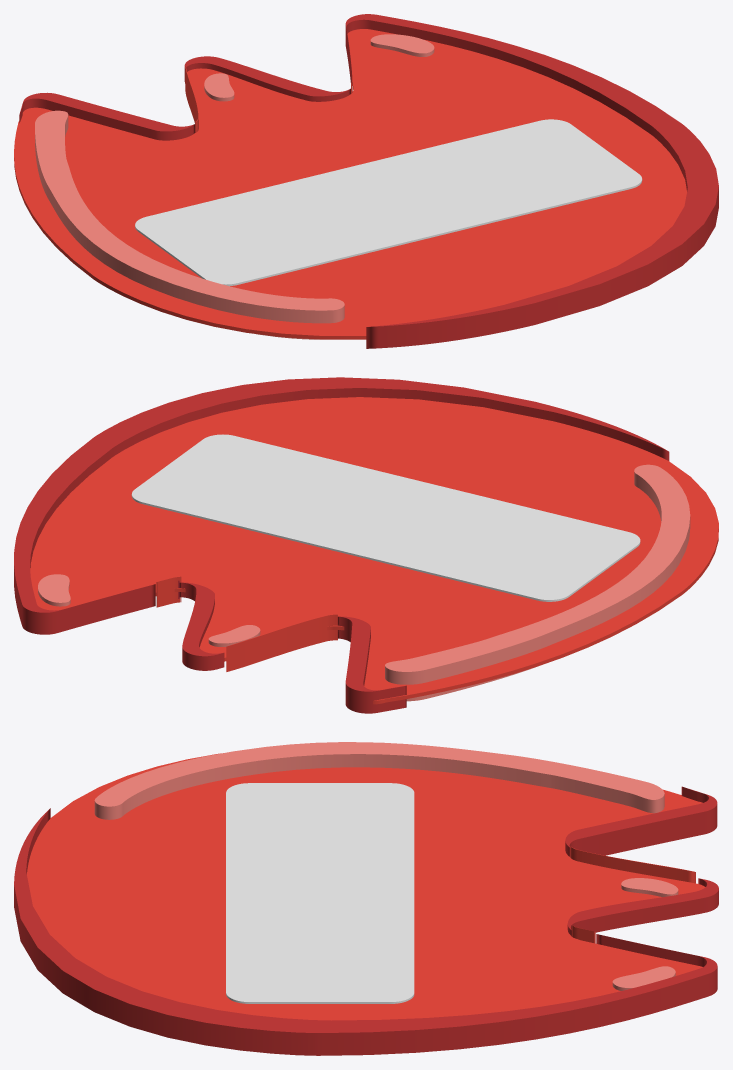
File: emoji_u1f4db.glb
3 views of the same model, one above another, from view 1: azimuth 30°, elevation 25°; view 2: azimuth 150°, elevation 25°; view 3: azimuth 270°, elevation 25° (orthographic). The views are drawn at different scales.
Parts seen in each view (by area): view 1: emoji_u1f4db; view 2: emoji_u1f4db; view 3: emoji_u1f4db.
Part boxes in pixels (<box>): emoji_u1f4db: <box>14,14,718,348</box>; emoji_u1f4db: <box>14,377,718,713</box>; emoji_u1f4db: <box>14,742,718,1055</box>.
Size of the model in its own units: 0.0337 by 0.0016 by 0.0338.
